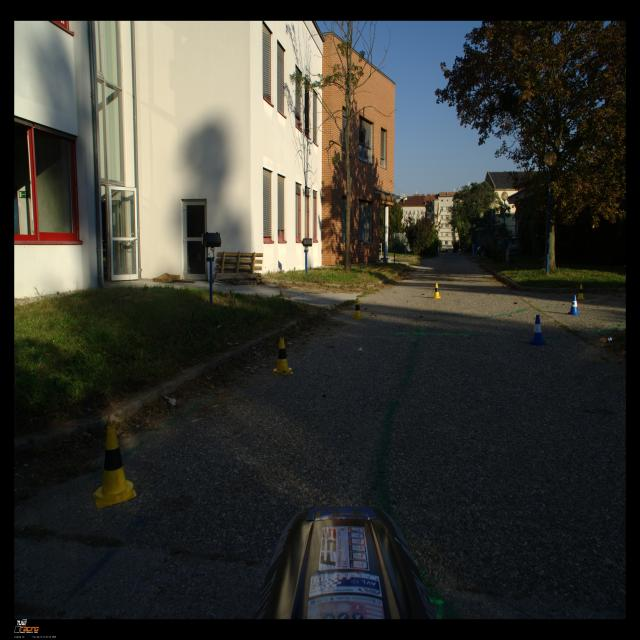blue_cone: (527, 314, 548, 346), (568, 295, 580, 316)
yellow_cone: (93, 425, 137, 508), (273, 337, 293, 375), (351, 298, 364, 320), (576, 284, 586, 300), (432, 283, 442, 298)
